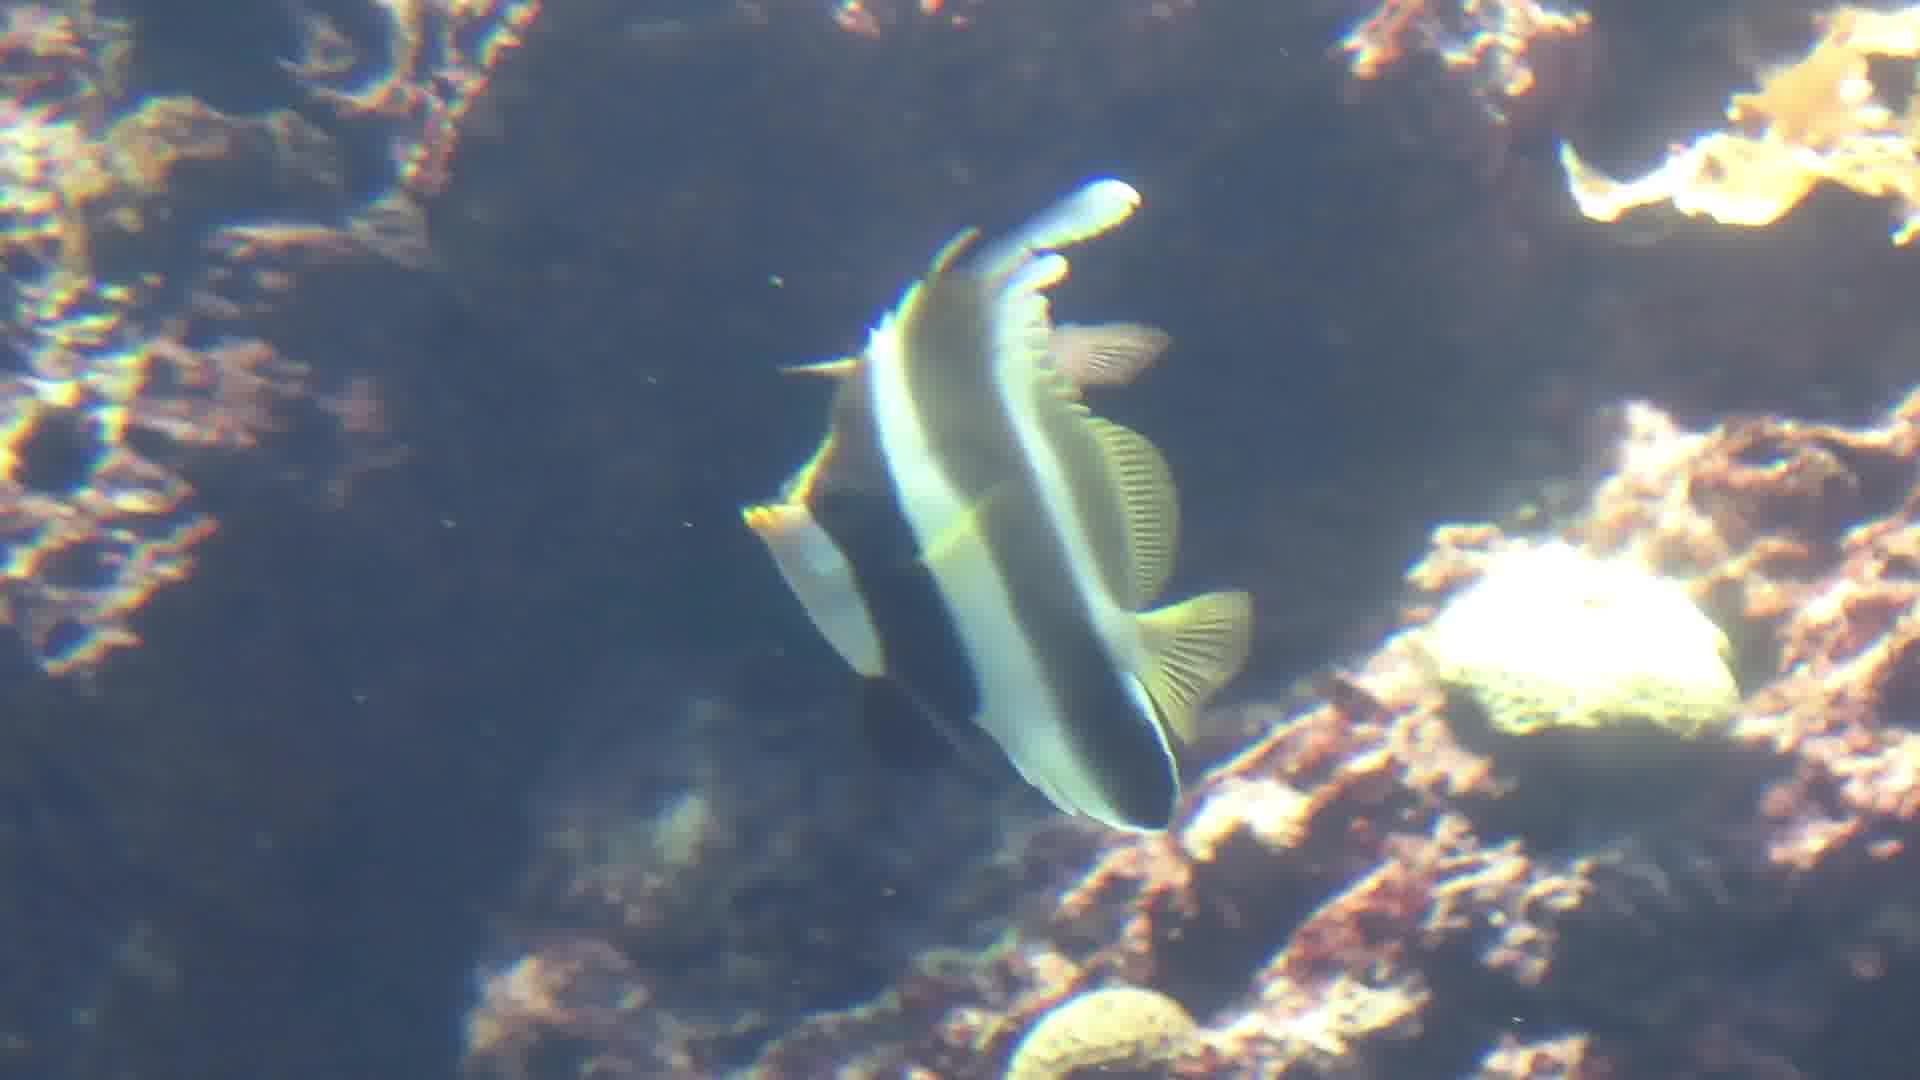Heniochus chrysostomus: (671, 156, 1338, 853)
